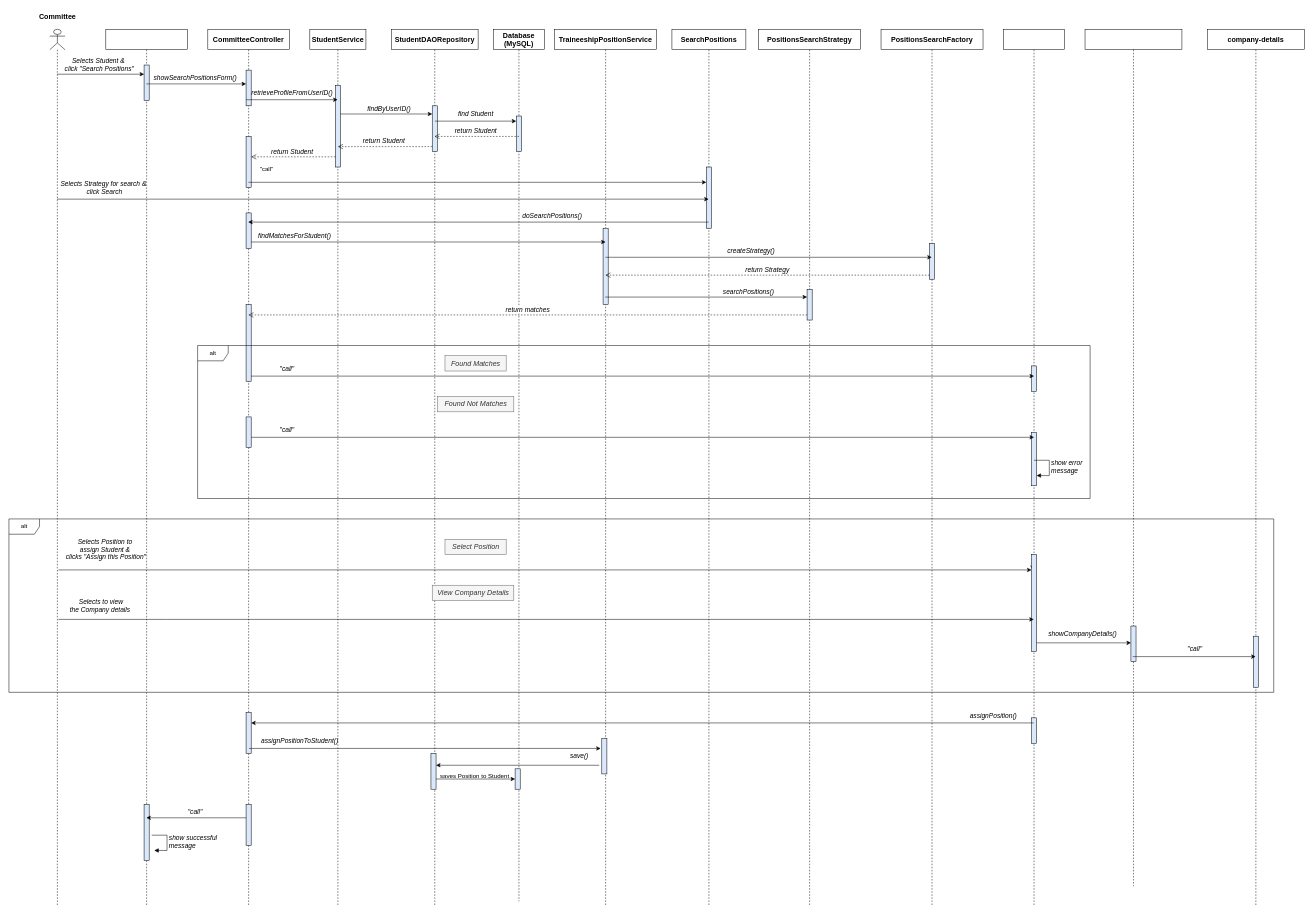
Image size: 1313x915. Some labels were removed from this diagram. The box of each missing label's shape, as (x1, y1, x2, y2) in pixels:
committee-homepage: (105, 29, 187, 907)
FindMatches: (1003, 29, 1065, 907)
InformationsController: (1085, 29, 1182, 886)
